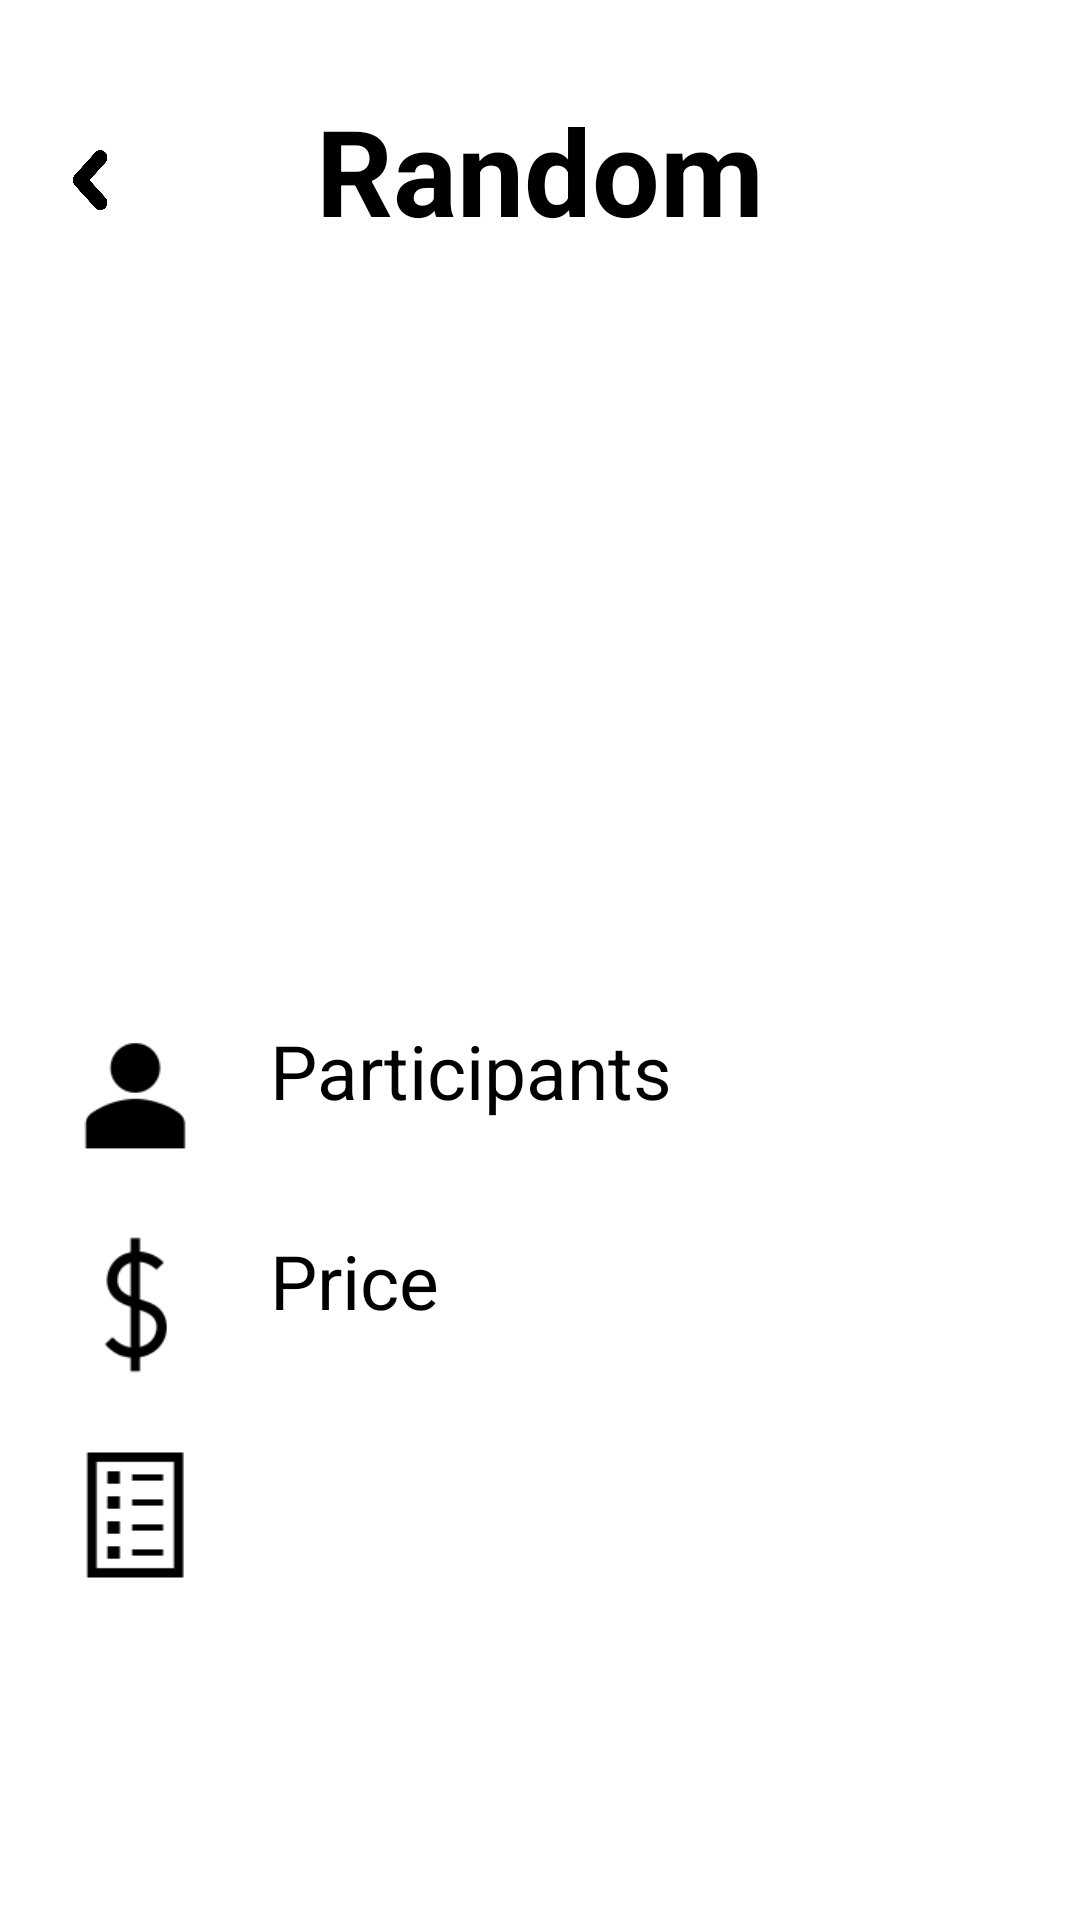

Where to tap for icons on this 1080×1920 app screen, as [x,y]:
back: [90,180]
user: [135,1096]
